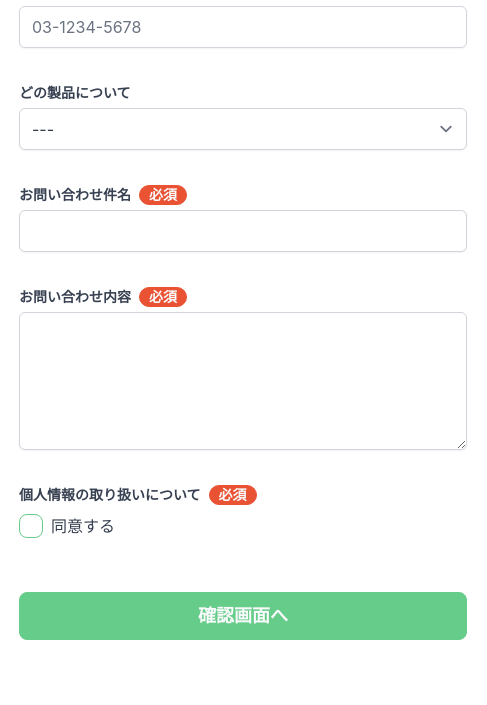
Test: Actions › 必須チェックのエラーメッセージが出ること
The width and height of the screenshot is (487, 705).
(page scrolled)
Click the submit button at (243, 616), box [19, 592, 467, 640]
(page scrolled)
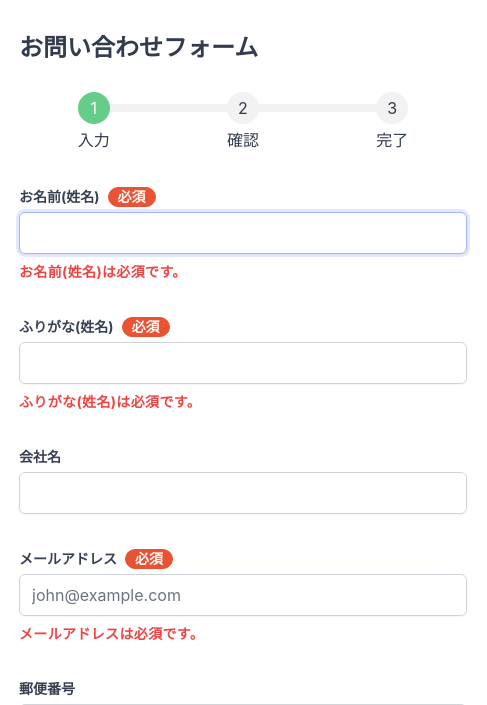
Result: the text "お名前(姓名)は必須です。" is shown at [19, 263, 187, 280]
Result: the text "ふりがな(姓名)は必須です。" is shown at [19, 393, 201, 410]
Result: the text "メールアドレスは必須です。" is shown at [19, 625, 204, 642]
